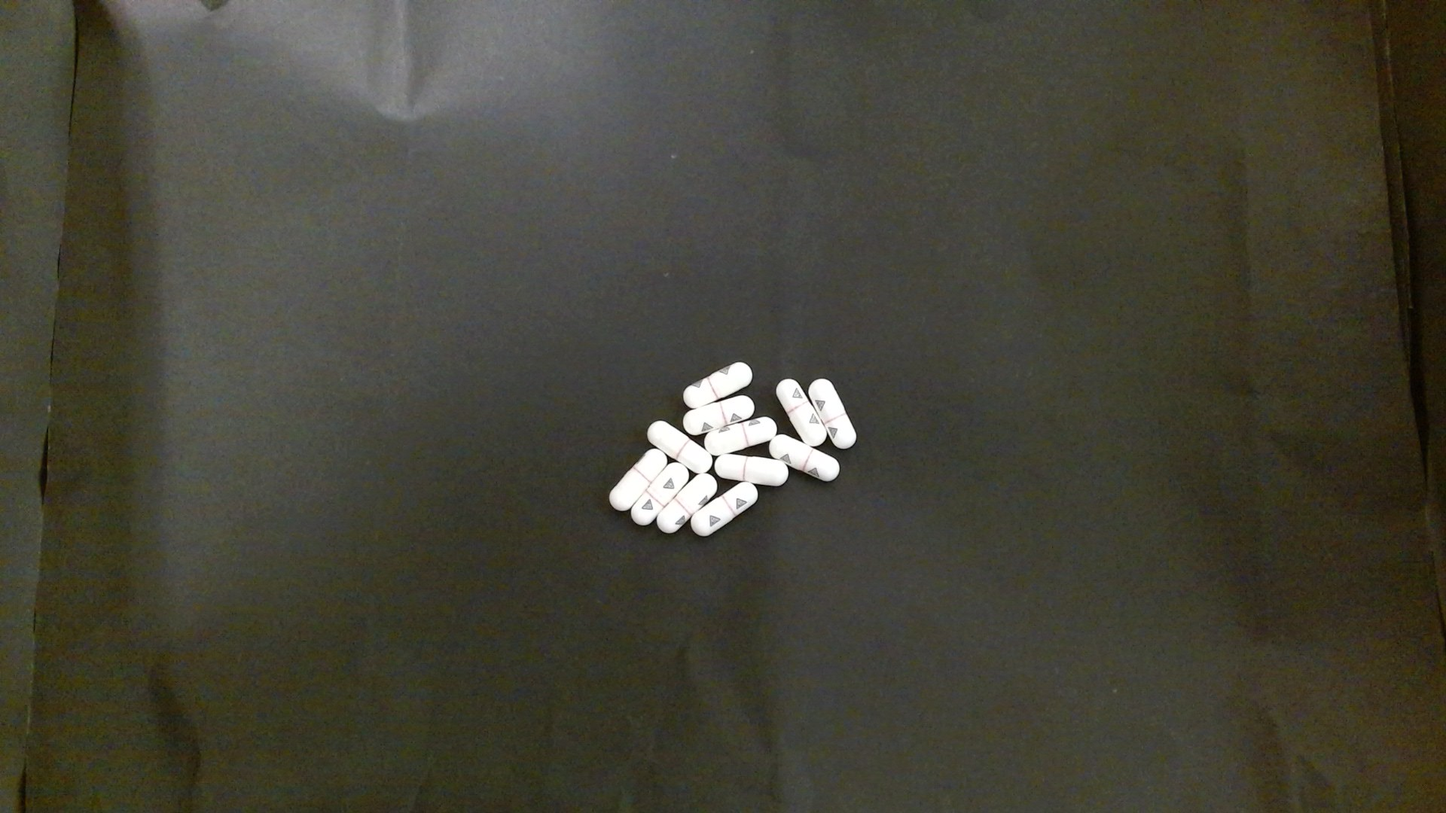Capsule: (630, 461, 690, 527), (609, 448, 669, 510), (647, 420, 714, 475), (658, 471, 717, 533), (776, 378, 828, 446), (808, 378, 856, 449), (693, 481, 757, 534), (683, 361, 752, 410), (768, 434, 837, 482), (704, 415, 775, 456), (684, 394, 754, 435), (714, 452, 788, 487)
